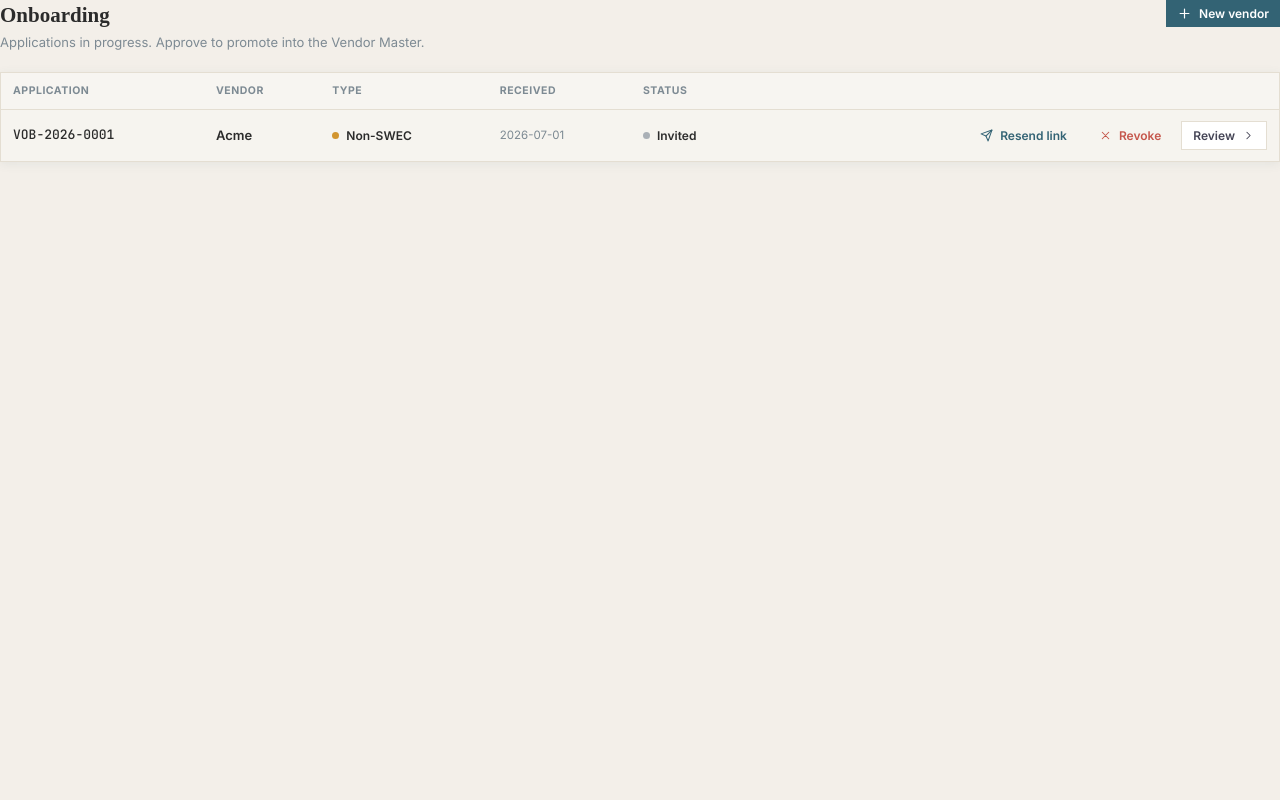
Onboarding queue + review (Slice D) › #4 — offers Resend link for an invited vendor and shows the new magic link
Click the button "Resend link" at [1024, 135], box [968,120,1079,150]
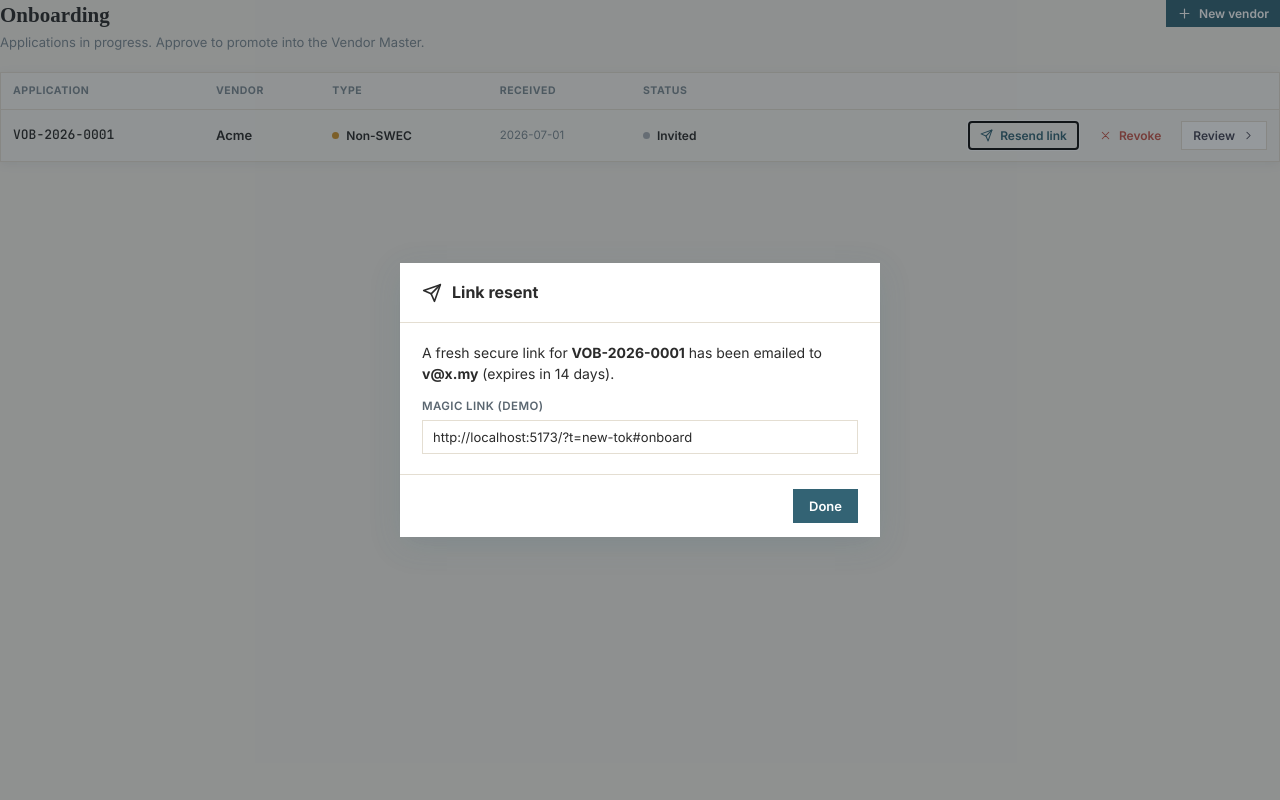
Now the heading "Link resent" is shown, box [452,281,538,304]
